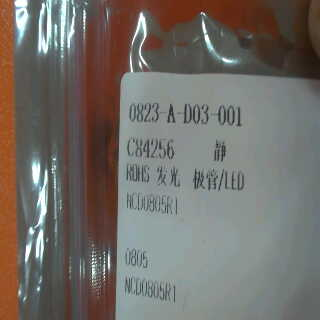LED: (153, 161, 255, 193)
